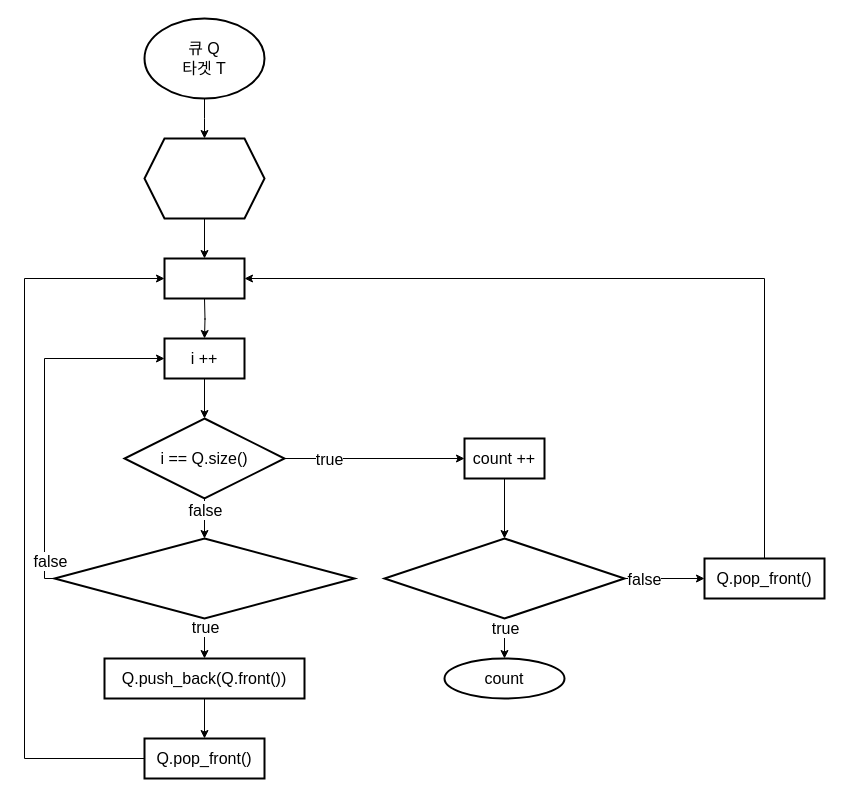
The diagram is 843 pixels wide and 796 high, and some of its shapes have lost their labels. The centre of each missing label's shape, as x and y in pixels:
count = 0 i = 0: pixel 204 178
i = 0: pixel 204 278
Q.front().index == T: pixel 504 578
Q.front().priority < Q[i].priority: pixel 204 578
